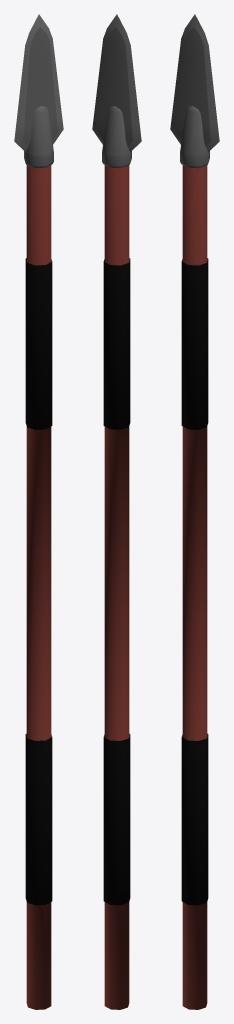
File: Spear.fbx
3 views of the same model, side by side, from view 1: azimuth 30°, elevation 25°; view 2: azimuth 150°, elevation 25°; view 3: azimuth 330°, elevation 25° (orthographic).
Parts seen in each view (by area): view 1: Cylinder, Cylinder.002, Cylinder.001; view 2: Cylinder, Cylinder.002, Cylinder.001; view 3: Cylinder, Cylinder.002, Cylinder.001.
Boxes of the visible parts, x1=… form: Cylinder: x1=25, y1=165, x2=52, y2=1009; Cylinder.002: x1=14, y1=14, x2=63, y2=152; Cylinder.001: x1=24, y1=106, x2=53, y2=168; Cylinder: x1=103, y1=165, x2=130, y2=1009; Cylinder.002: x1=92, y1=14, x2=141, y2=152; Cylinder.001: x1=102, y1=106, x2=131, y2=168; Cylinder: x1=181, y1=165, x2=208, y2=1009; Cylinder.002: x1=170, y1=14, x2=219, y2=152; Cylinder.001: x1=180, y1=106, x2=209, y2=168.
Size of the model in its own units: 9.74 by 187 by 5.26.
